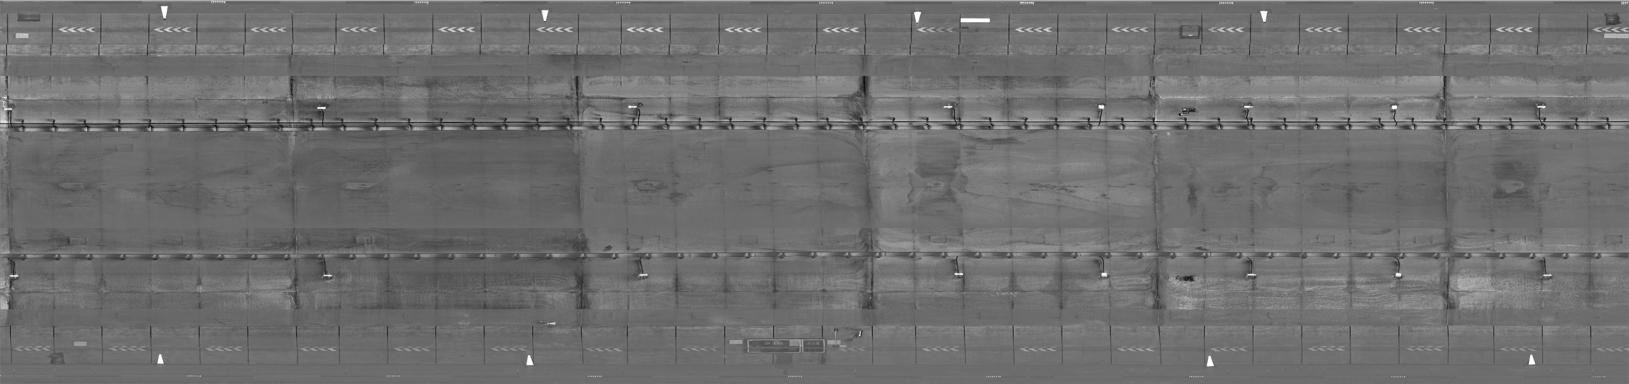light: (1527, 95, 1556, 115), (316, 265, 341, 287), (3, 266, 31, 284), (621, 99, 647, 117), (314, 99, 337, 119), (1231, 101, 1263, 115), (1087, 99, 1115, 114), (1243, 268, 1269, 284), (944, 269, 973, 283), (934, 99, 961, 114), (629, 270, 656, 284), (1383, 99, 1406, 115), (1, 98, 20, 117), (1091, 268, 1113, 283), (1535, 270, 1560, 283), (1389, 268, 1406, 283)
